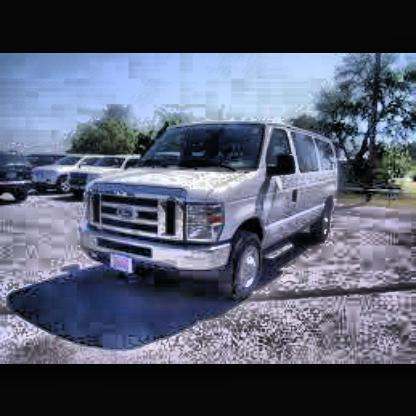Ford E-Series Wagon Van 2012: (80, 122, 341, 298)
